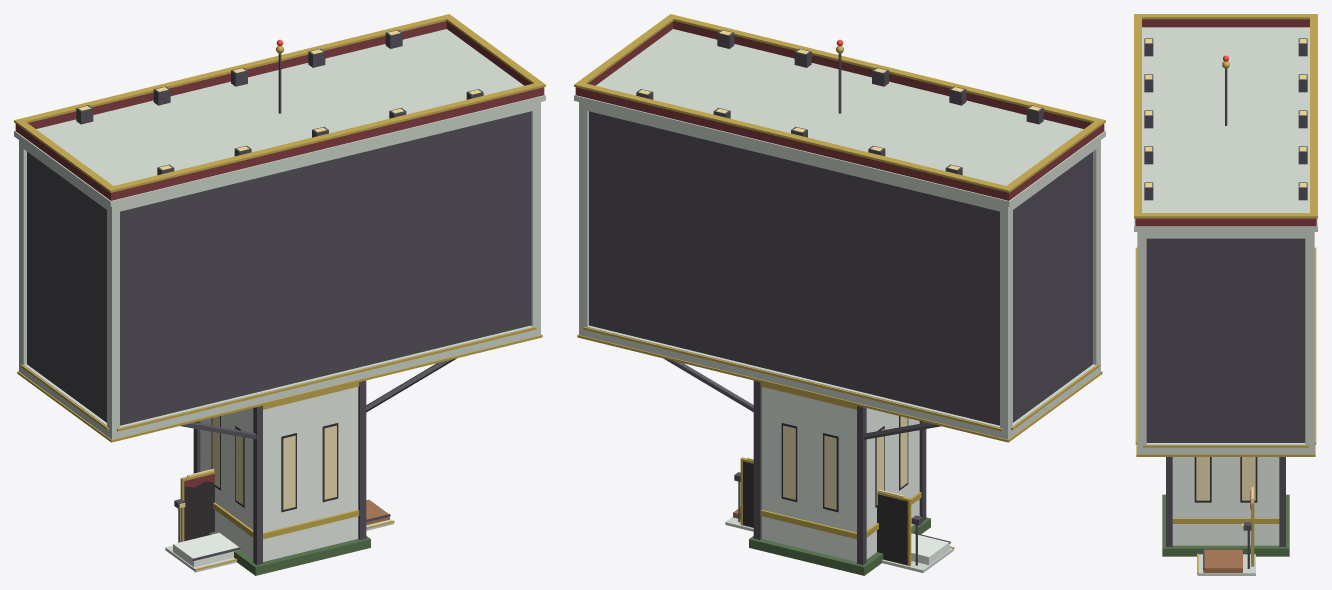
The model's file is downs-screen.glb.
3 renders of one model, left to right at view 1: azimuth 30°, elevation 25°; view 2: azimuth 150°, elevation 25°; view 3: azimuth 270°, elevation 25°, orthographic. The views are drawn at different scales.
Parts seen in each view (by area): view 1: dn_drum_black2, dn_drum_mint2, dn_drum_mint, dn_drum_gold, dn_drum_barn, dn_drum_glasswarm, dn_drum_money2, dn_podium_black, dn_podium_mint, dn_drum_black; view 2: dn_drum_black2, dn_drum_mint2, dn_drum_mint, dn_drum_gold, dn_drum_barn, dn_drum_glasswarm, dn_podium_black, dn_drum_money2, dn_drum_black, dn_podium_mint, dn_podium_gold; view 3: dn_drum_mint2, dn_drum_black2, dn_drum_gold, dn_drum_mint, dn_drum_barn, dn_drum_money2, dn_drum_glasswarm, dn_podium_saddle, dn_drum_black, dn_podium_mint2, dn_drum_glowgold, dn_podium_gold.
Boxes of the visible parts, x1,y1,x2,y2 form: dn_drum_black2: (27, 29, 530, 564); dn_drum_mint2: (14, 29, 545, 439); dn_drum_mint: (200, 387, 358, 561); dn_drum_gold: (14, 14, 545, 539); dn_drum_barn: (15, 21, 544, 200); dn_drum_glasswarm: (212, 416, 336, 509); dn_drum_money2: (208, 531, 370, 575); dn_podium_black: (184, 481, 214, 541); dn_podium_mint: (173, 532, 239, 567); dn_drum_black: (211, 416, 338, 512); dn_drum_black2: (589, 29, 1092, 564); dn_drum_mint2: (574, 29, 1105, 439); dn_drum_mint: (761, 387, 919, 561); dn_drum_gold: (574, 14, 1105, 539); dn_drum_barn: (575, 21, 1104, 200); dn_drum_glasswarm: (783, 416, 907, 509); dn_podium_black: (743, 461, 907, 565); dn_drum_money2: (749, 517, 930, 575); dn_drum_black: (781, 416, 908, 512); dn_podium_mint: (911, 533, 949, 564); dn_podium_gold: (740, 457, 954, 566); dn_drum_mint2: (1134, 27, 1317, 454); dn_drum_black2: (1144, 38, 1307, 546); dn_drum_gold: (1134, 14, 1317, 523); dn_drum_mint: (1172, 457, 1279, 545); dn_drum_barn: (1135, 19, 1316, 226); dn_drum_money2: (1162, 494, 1289, 556); dn_drum_glasswarm: (1196, 457, 1255, 500); dn_podium_saddle: (1203, 549, 1242, 572); dn_drum_black: (1194, 457, 1257, 502); dn_podium_mint2: (1197, 554, 1255, 575); dn_drum_glowgold: (1145, 39, 1306, 187); dn_podium_gold: (1197, 488, 1254, 574).
Size of the model in its own units: 42.2 by 46.08 by 16.2.
